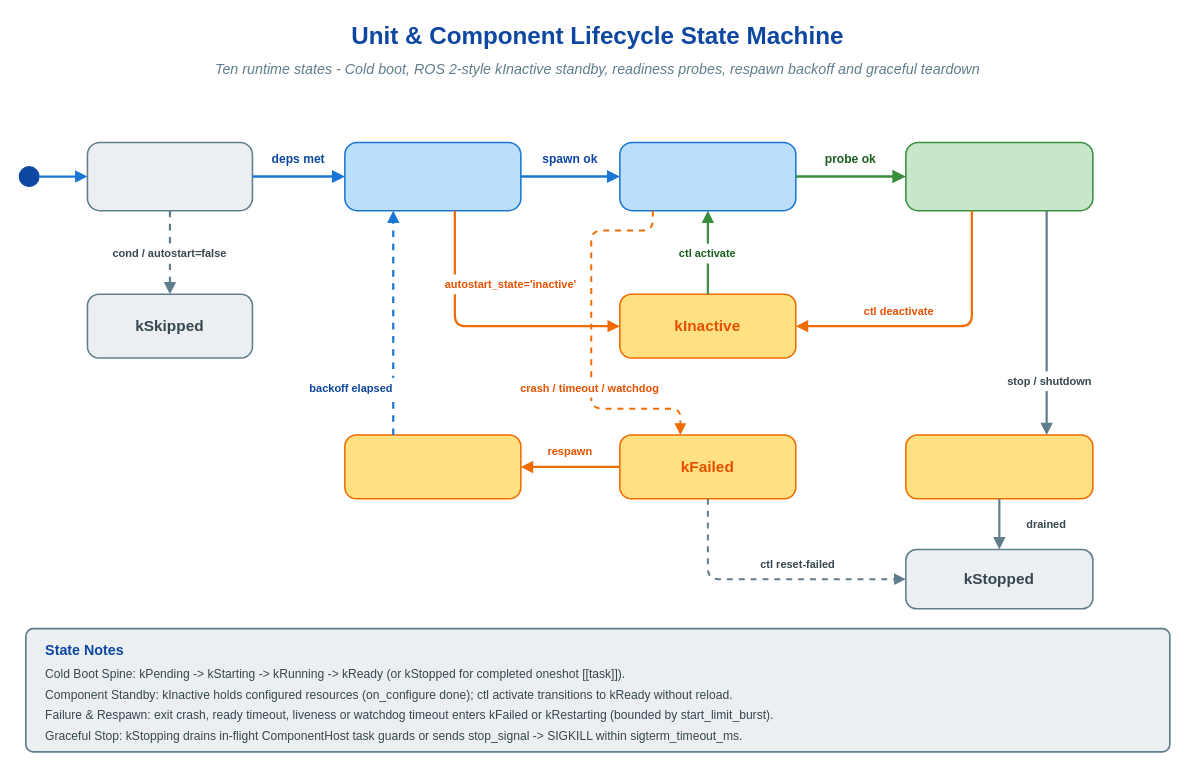
Some shapes in this 1190 by 771 pixel diagram are drawn without their labels. Each missing label, with the centre of its shape:
"kPending" belongs at [169,176].
"kReady" belongs at [999,176].
"kRestarting" belongs at [432,466].
"kRunning" belongs at [707,176].
"kStarting" belongs at [432,176].
"kStopping" belongs at [999,466].
